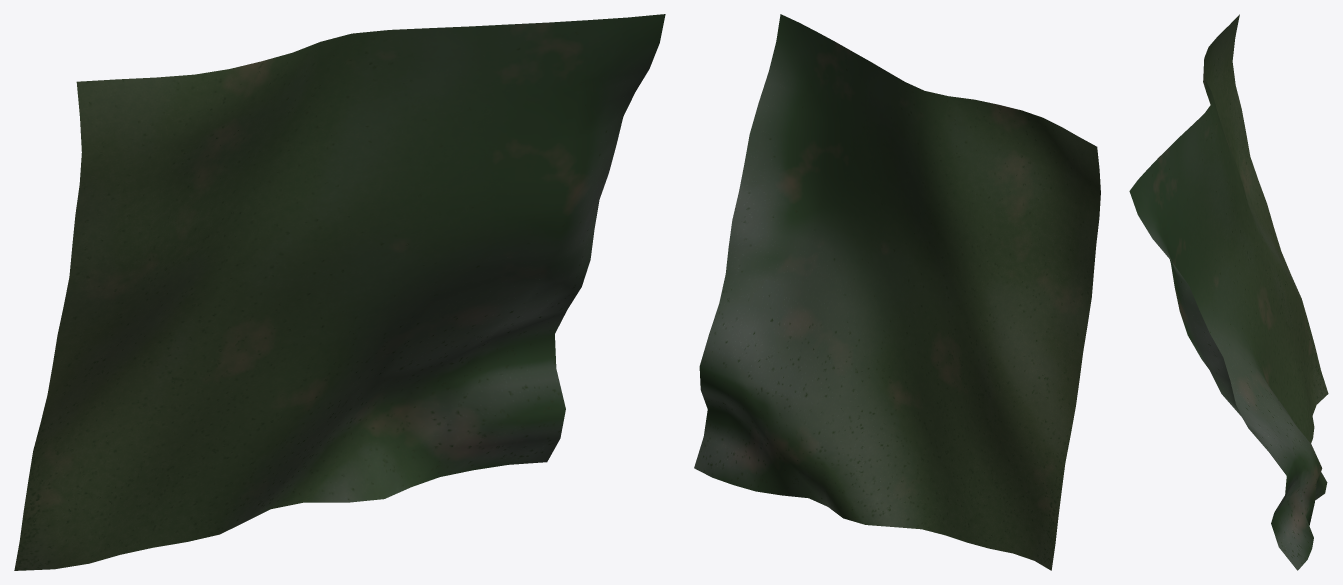
Rendered from terrain_far_05_03.obj.
3 views of the same model, side by side, from view 1: azimuth 30°, elevation 25°; view 2: azimuth 150°, elevation 25°; view 3: azimuth 270°, elevation 25° (orthographic). The views are drawn at different scales.
Parts seen in each view (by area): view 1: terrain_far_05_03; view 2: terrain_far_05_03; view 3: terrain_far_05_03.
Part boxes in pixels (x1,y1,x2,y2): terrain_far_05_03: (14, 14, 665, 570); terrain_far_05_03: (694, 14, 1100, 570); terrain_far_05_03: (1129, 14, 1328, 570).
Size of the model in its own units: 640 by 640 by 304.
1 material, 1 textured.
